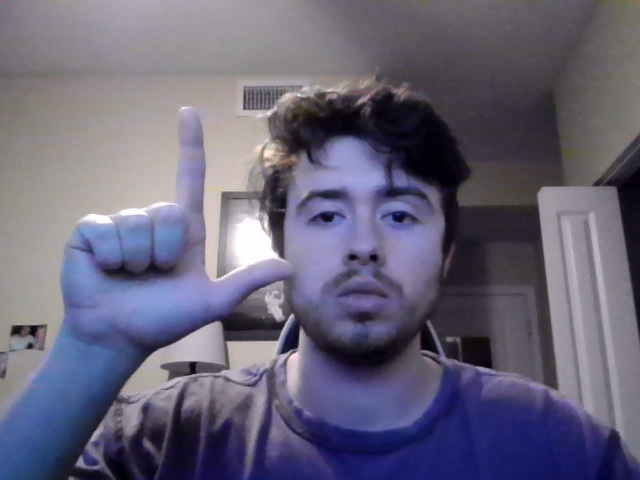l: (60, 105, 295, 367)
